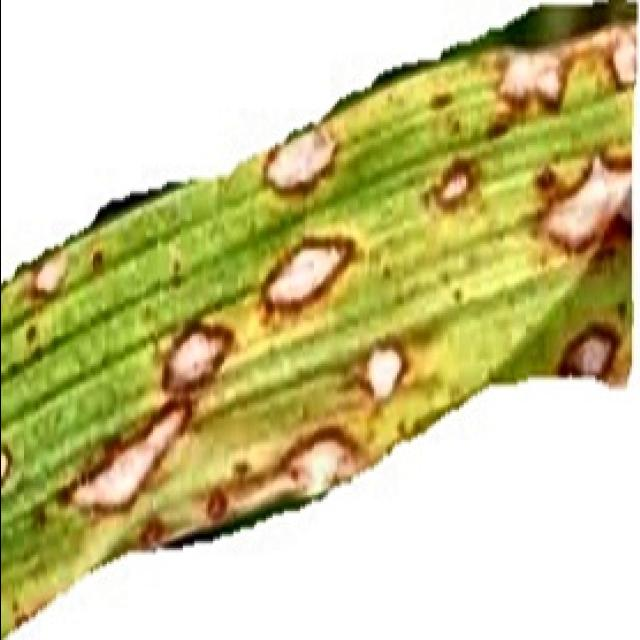Leaf_Blast: (0, 7, 638, 640)
